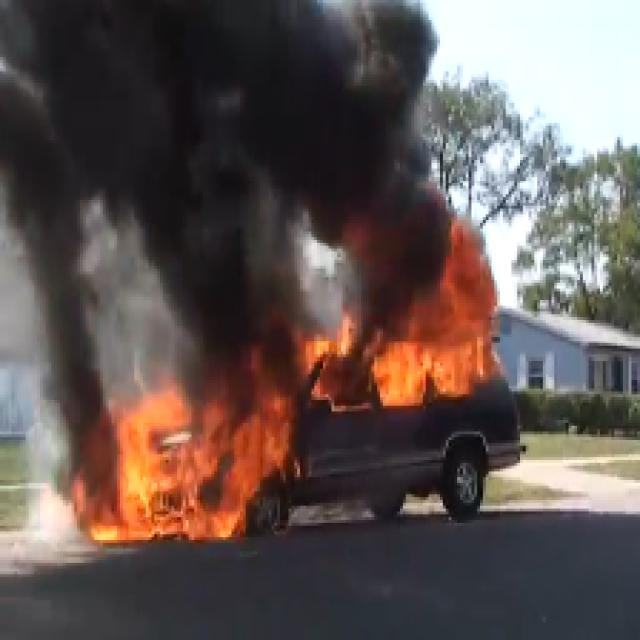fire: (127, 410, 277, 542), (371, 326, 492, 395), (455, 235, 490, 321)
smoke: (9, 12, 364, 202), (148, 206, 288, 401), (28, 207, 112, 499), (373, 21, 424, 305)
